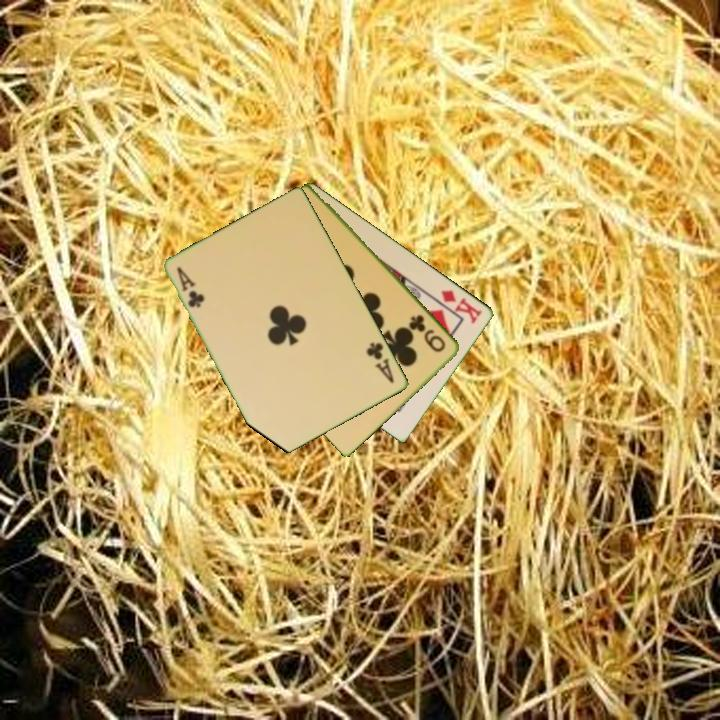9c: (406, 311, 449, 355)
Ac: (174, 263, 208, 311), (363, 339, 397, 386)
Kd: (438, 286, 485, 327)
